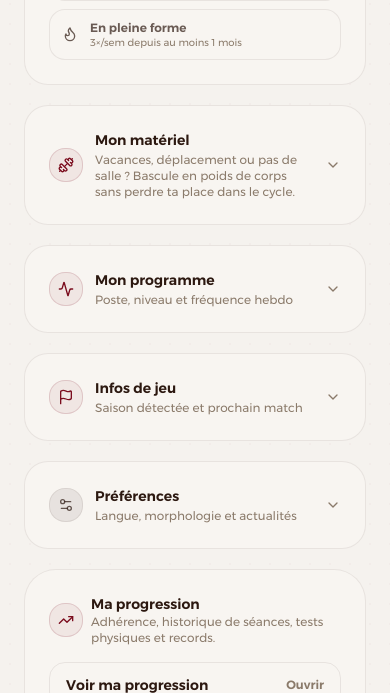
Scenario: ProfilePage · Ma situation › shows treve read-only panel without season-end buttons when trêve sub-mode
(page scrolled)
Step 1. Click the button "Infos de jeu Saison détectée et prochain match" → click(195, 397), box [25,354,365,440]
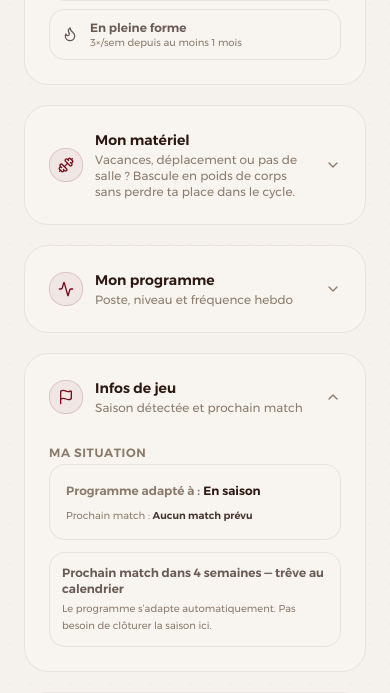
Expected: the element with test id "situation-treve-readonly" is shown, [49,552,341,647]
Expected: the element with test id "situation-treve-readonly" shows "4 semaines", [62,566,324,596]
